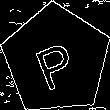P_N: (31, 29, 82, 90)
